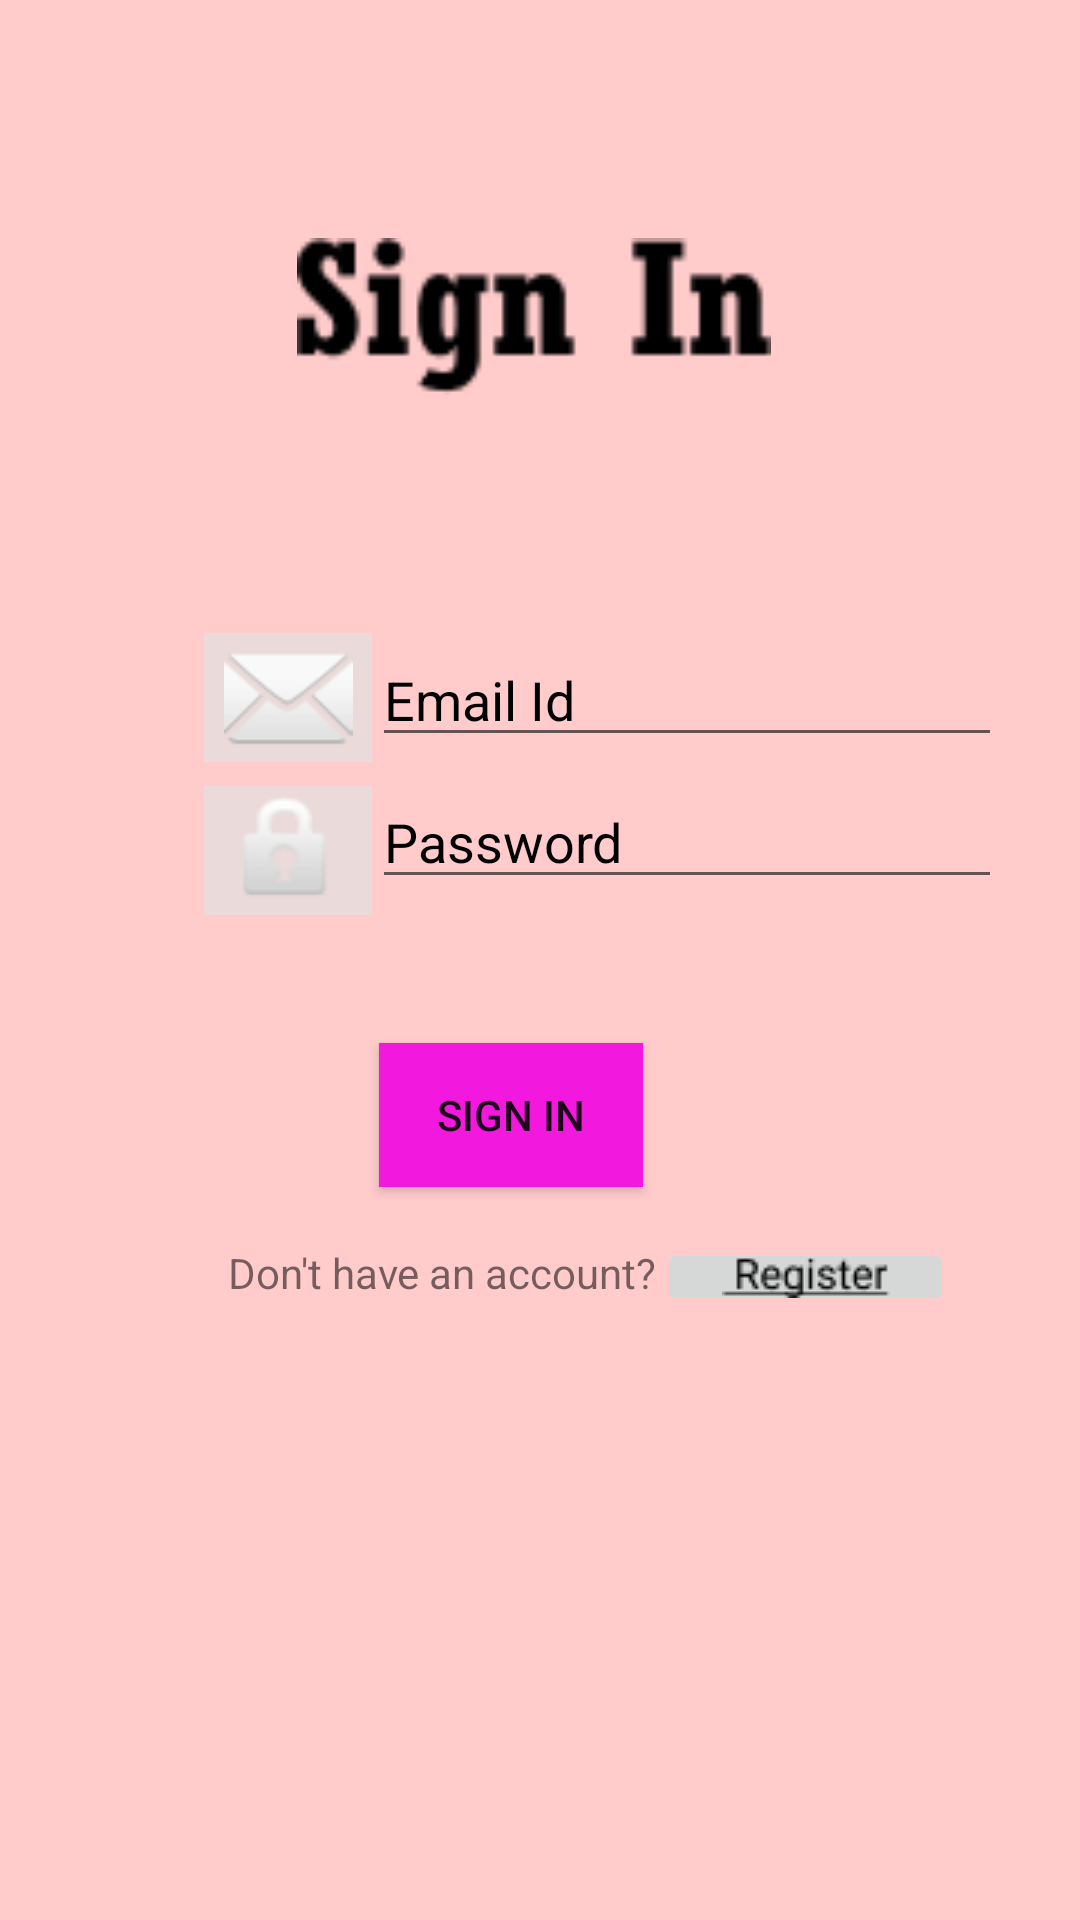

Named icons in this screenshot (1080*1920) and their bounding boxes, rect(x1, y1, x2, y2):
lock idle: rect(243, 798, 328, 896)
